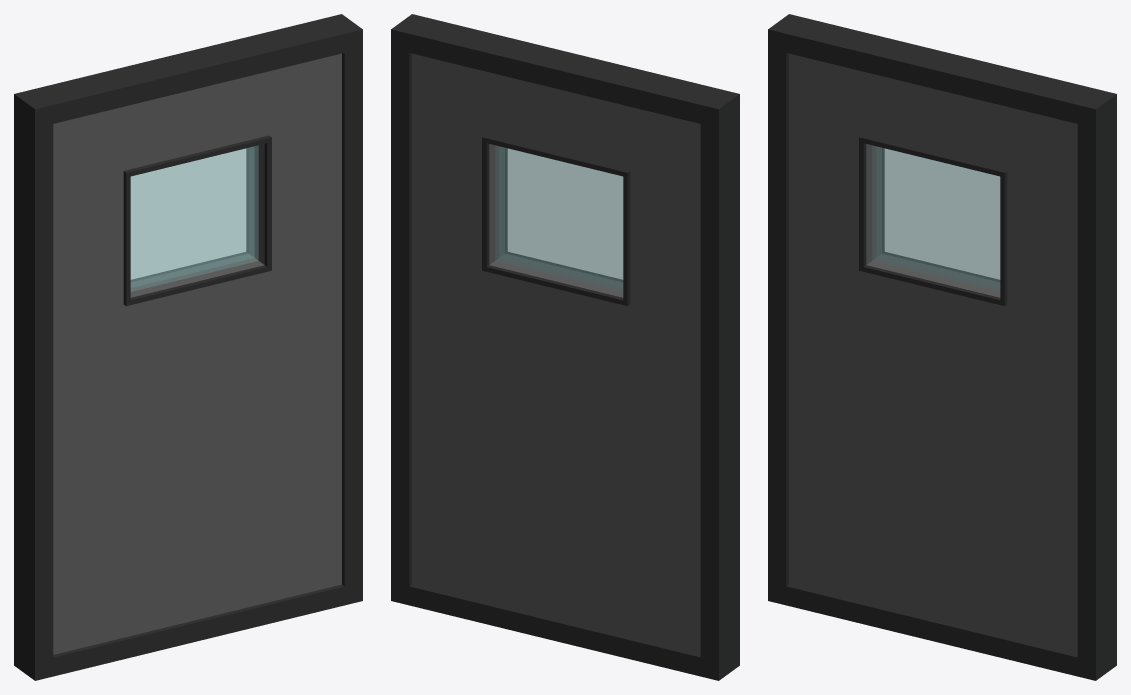
File: Door.fbx
3 renders of one model, left to right at view 1: azimuth 30°, elevation 25°; view 2: azimuth 150°, elevation 25°; view 3: azimuth 330°, elevation 25°, orthographic.
Visible parts, largest first — view 1: Cube; view 2: Cube; view 3: Cube.
Boxes of the visible parts, x1,y1,x2,y2 form: Cube: [14, 14, 362, 680]; Cube: [391, 14, 739, 680]; Cube: [768, 14, 1116, 680].
Size of the model in its own units: 360 by 600 by 40.
